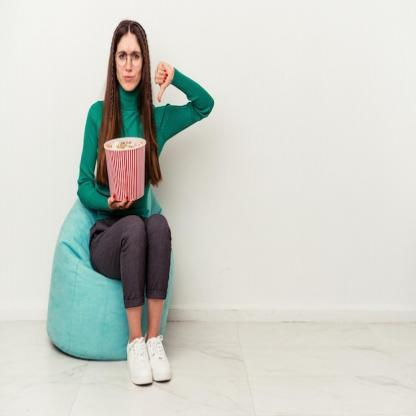thumb_down: (154, 60, 174, 104)
